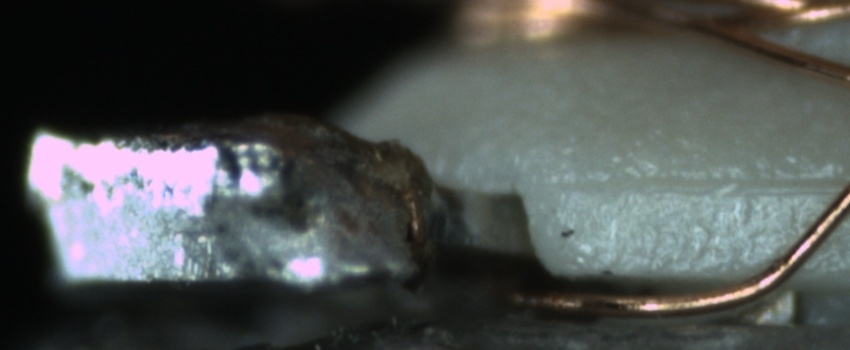DL: (533, 153, 850, 217)
